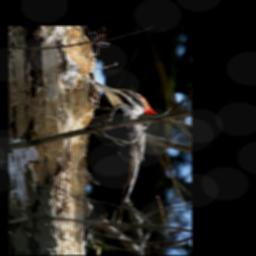Woodpecker: (85, 81, 158, 247)
